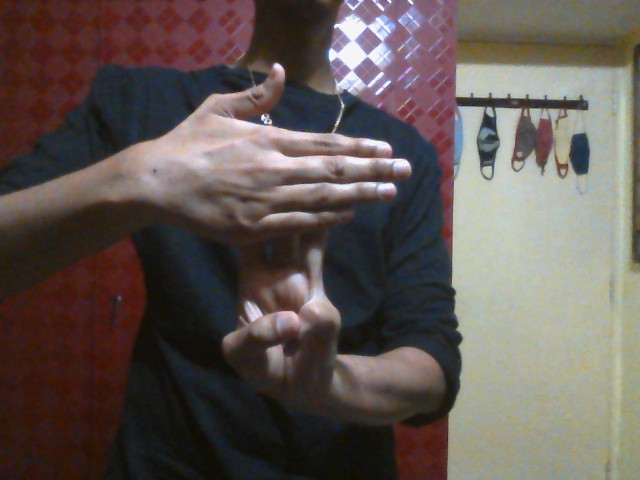M: (186, 61, 413, 393)
